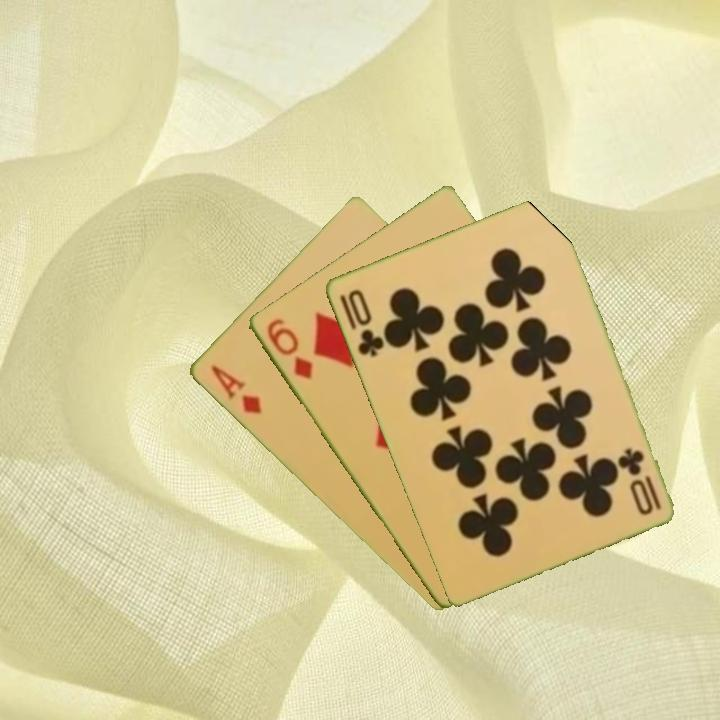10c: (335, 285, 387, 359), (616, 444, 664, 513)
6d: (262, 314, 316, 383)
Ad: (206, 361, 265, 418)
